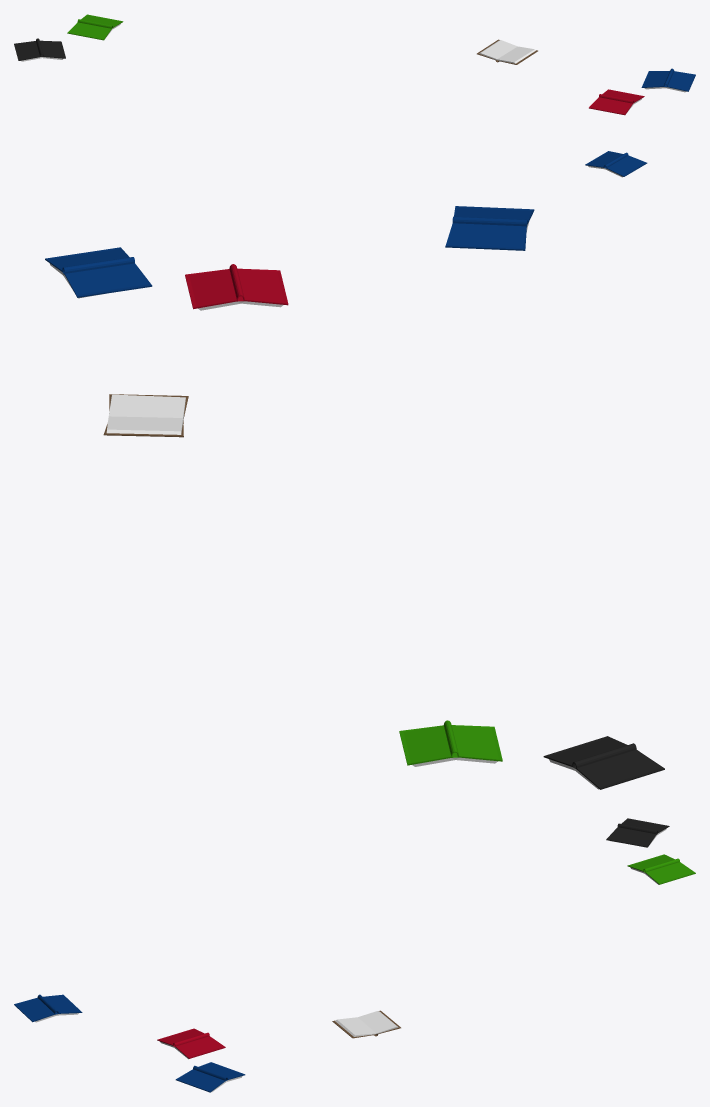
Rendered from Open books.fbx.
3 renders of one model, top to bottom at view 1: azimuth 30°, elevation 25°; view 2: azimuth 150°, elevation 25°; view 3: azimuth 270°, elevation 25°, orthographic. The views are drawn at different scales.
Parts seen in each view (by area): view 1: Book_1, Book_5, Book_3, Book_2, Book_4, Book_6; view 2: Book_2, Book_4, Book_1, Book_5, Book_3, Book_6; view 3: Book_3, Book_5, Book_4, Book_2, Book_6, Book_1.
Boxes of the visible parts, box(x1,y1,x2,y2) form: Book_1: box(14, 38, 65, 61); Book_5: box(641, 68, 695, 92); Book_3: box(585, 151, 647, 177); Book_2: box(67, 14, 123, 40); Book_4: box(589, 89, 644, 115); Book_6: box(477, 39, 537, 64); Book_2: box(399, 720, 502, 766); Book_4: box(185, 264, 288, 310); Book_1: box(543, 736, 664, 789); Book_5: box(45, 247, 152, 298); Book_3: box(445, 206, 534, 250); Book_6: box(103, 394, 188, 437); Book_3: box(14, 994, 82, 1022); Book_5: box(175, 1062, 245, 1092); Book_4: box(157, 1028, 225, 1059); Book_2: box(627, 854, 695, 884); Book_6: box(332, 1010, 400, 1038); Book_1: box(606, 818, 669, 847).
Bounding box in the file's own units: 0.2424 × 0.00335 × 0.2553.
